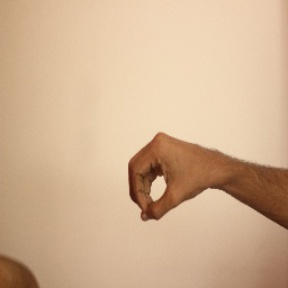O: (124, 128, 212, 225)
